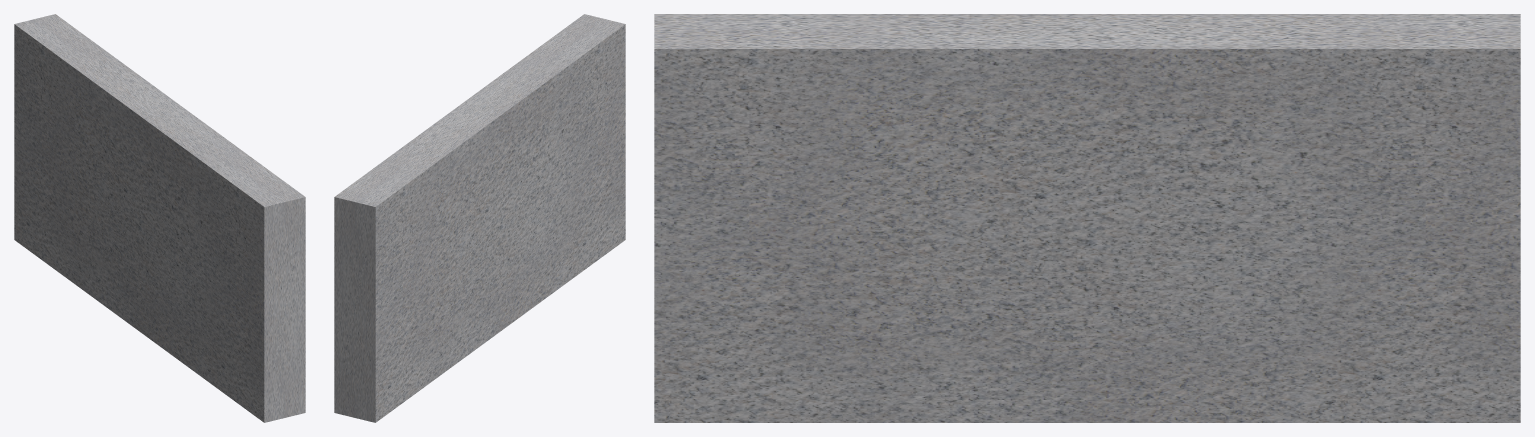
File: SM_W_Foundation_2.fbx
3 views of the same model, side by side, from view 1: azimuth 30°, elevation 25°; view 2: azimuth 150°, elevation 25°; view 3: azimuth 270°, elevation 25° (orthographic). The views are drawn at different scales.
Visible parts, largest first — view 1: SM_W_Foundation_2; view 2: SM_W_Foundation_2; view 3: SM_W_Foundation_2.
Part boxes in pixels (x1=…): SM_W_Foundation_2: x1=14, y1=14, x2=305, y2=422; SM_W_Foundation_2: x1=334, y1=14, x2=625, y2=422; SM_W_Foundation_2: x1=654, y1=14, x2=1520, y2=422.
Size of the model in its own units: 10.2 by 107 by 51.01.
Materials: 1 (1 with a texture image).
